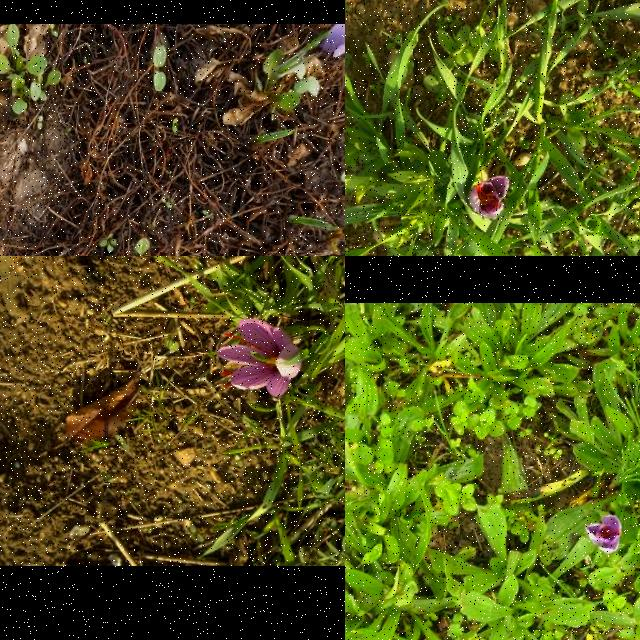flower: (214, 319, 302, 397), (468, 177, 509, 219), (584, 514, 622, 554)
